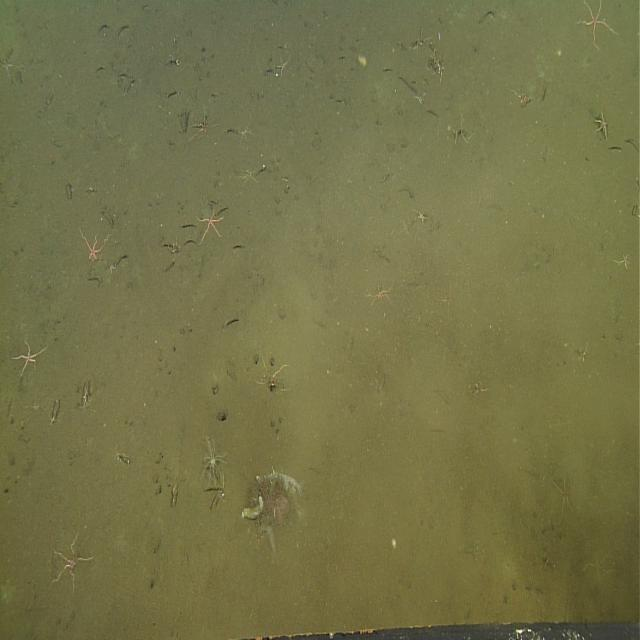Brittle Star: (44, 531, 94, 598), (582, 1, 621, 58), (75, 223, 114, 267), (196, 206, 226, 247), (367, 275, 395, 313)
Not Brittle Star: (198, 432, 229, 487), (237, 484, 267, 528)
